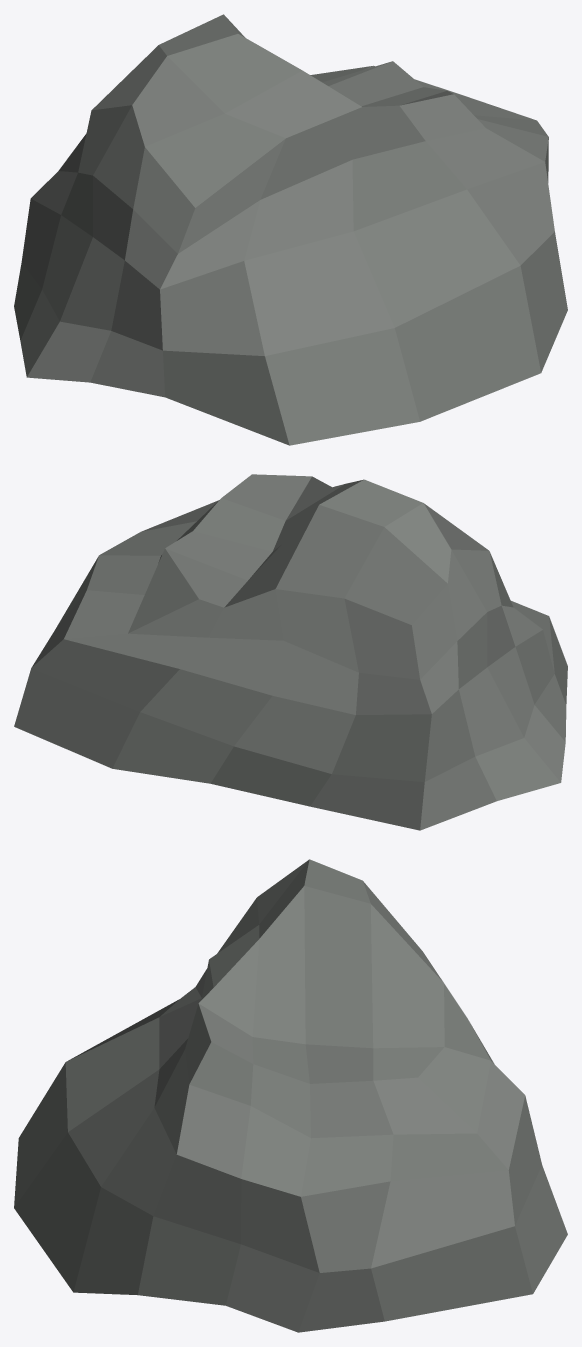
File: Rock_02.fbx
3 renders of one model, top to bottom at view 1: azimuth 30°, elevation 25°; view 2: azimuth 150°, elevation 25°; view 3: azimuth 270°, elevation 25°, orthographic. The views are drawn at different scales.
Parts seen in each view (by area): view 1: Rock_02; view 2: Rock_02; view 3: Rock_02.
Part boxes in pixels (x1,y1,x2,y2): Rock_02: [14, 14, 567, 445]; Rock_02: [14, 474, 567, 830]; Rock_02: [14, 859, 567, 1332].
Bounding box in the file's own units: 480 × 264 × 425.
